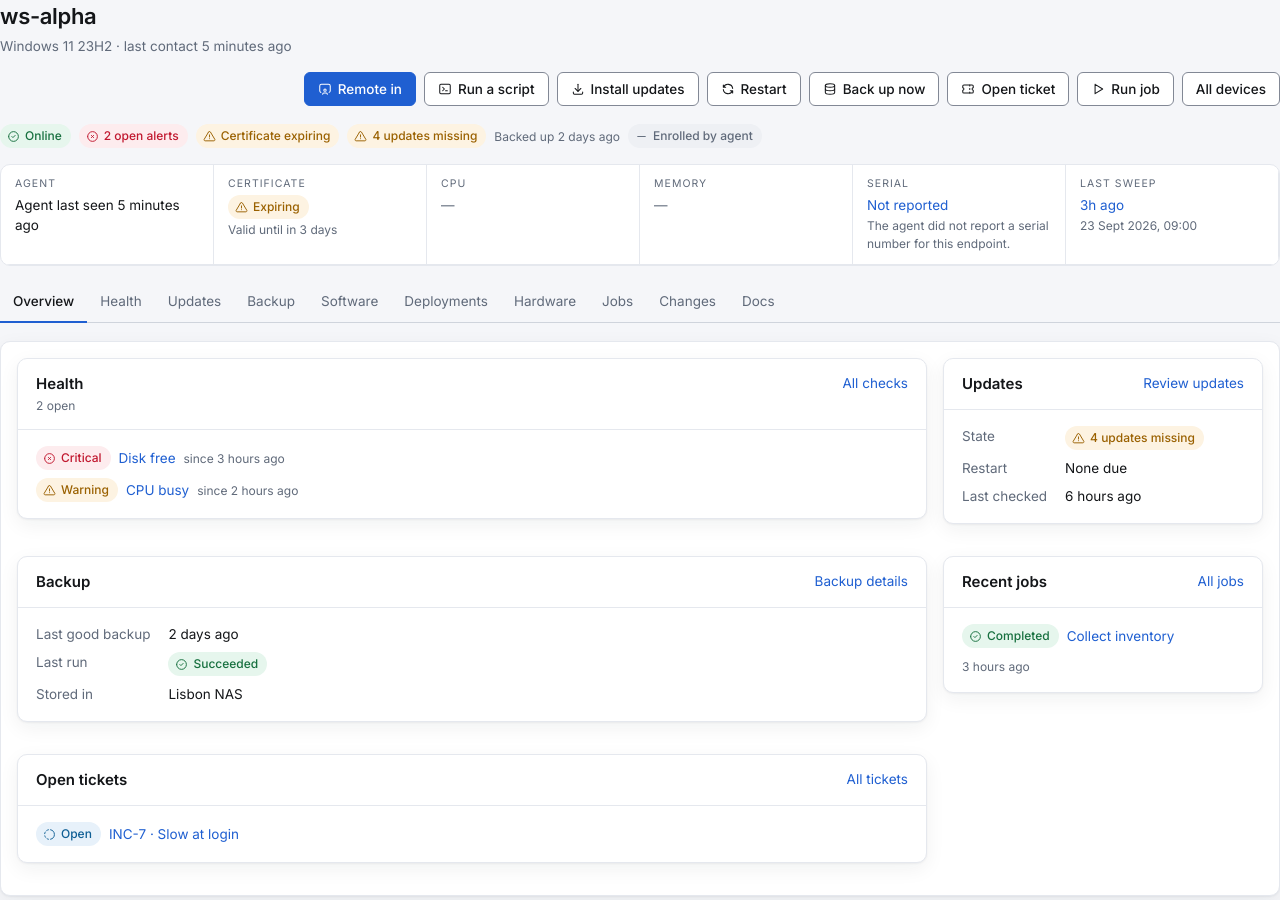
the actions › opens a ticket with this device already chosen
Click the button "Open ticket" at {"x": 1008, "y": 89}, box [947,72,1069,106]
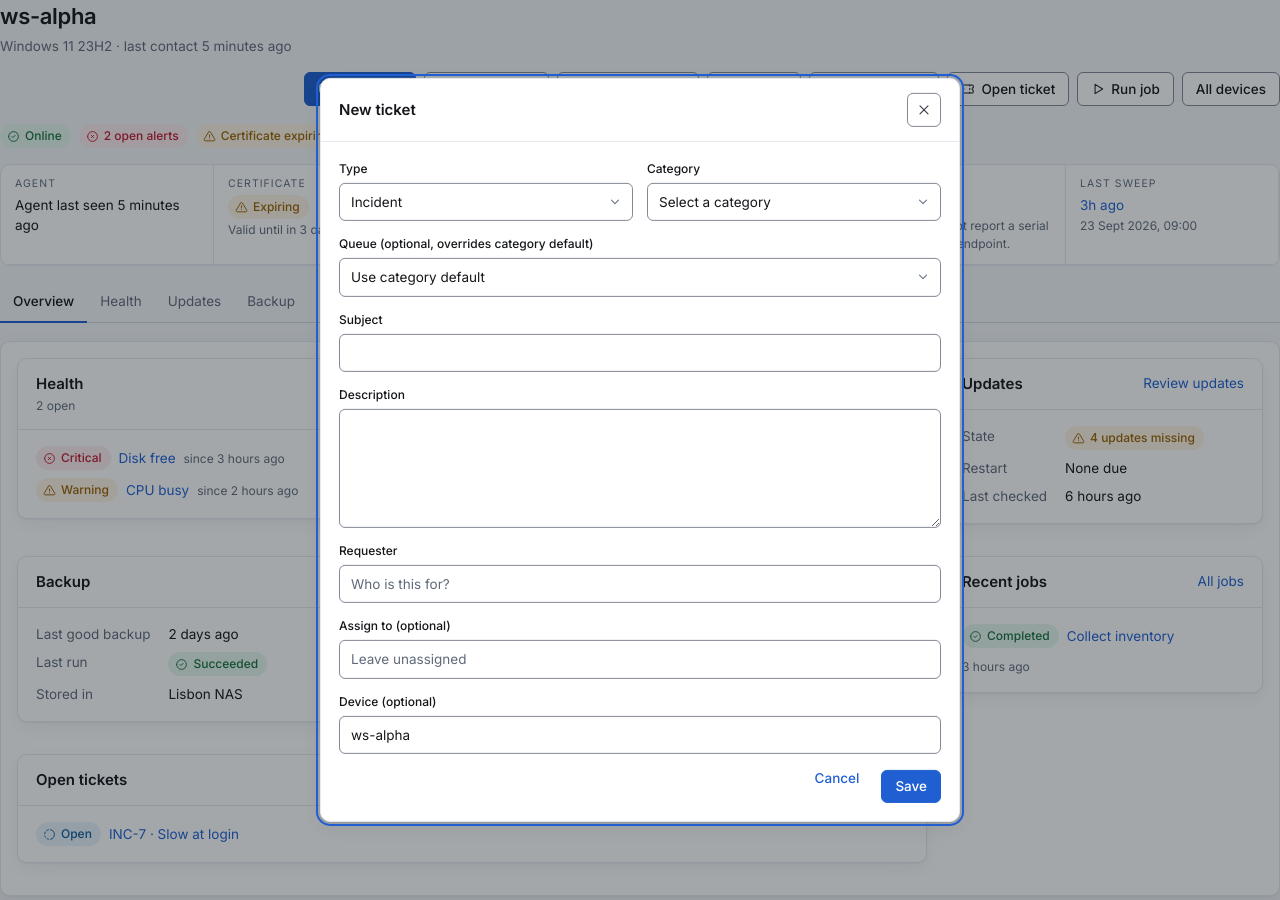
Now the dropdown labelled "Device (optional)" holds "ws-alpha", box [339,715,941,754]
